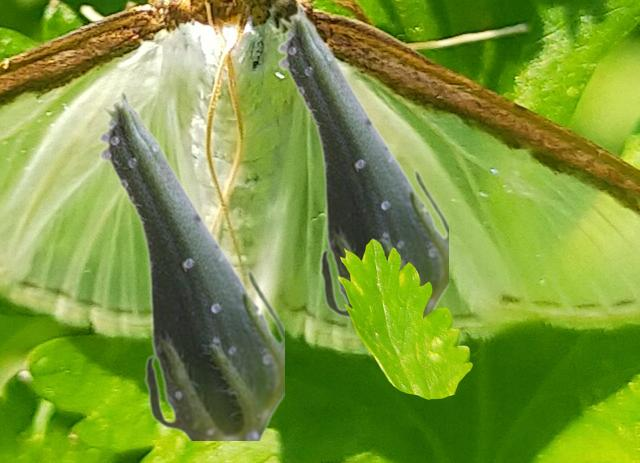okra: (97, 90, 283, 439), (276, 4, 447, 321)
